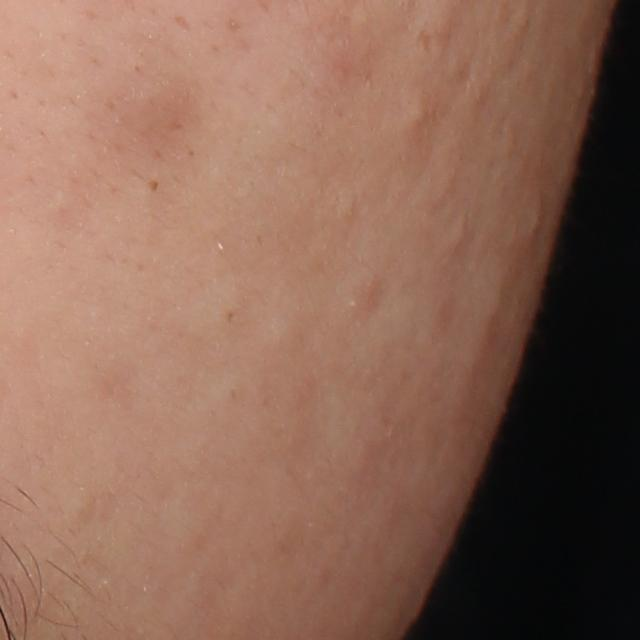comedo: (256, 314, 301, 364), (399, 87, 434, 132), (447, 220, 472, 253), (141, 175, 167, 202)
